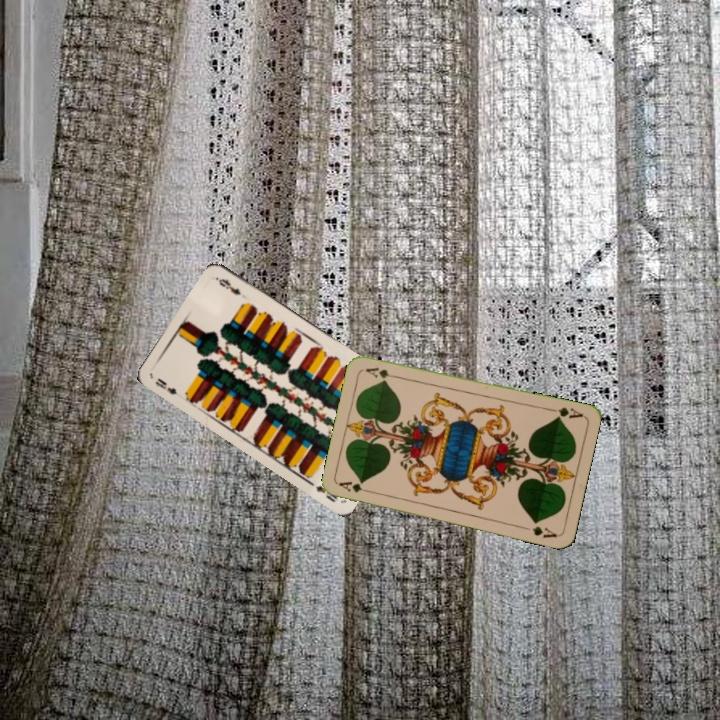E9: (151, 374, 180, 397)
GA: (545, 403, 586, 421), (335, 478, 376, 496)
